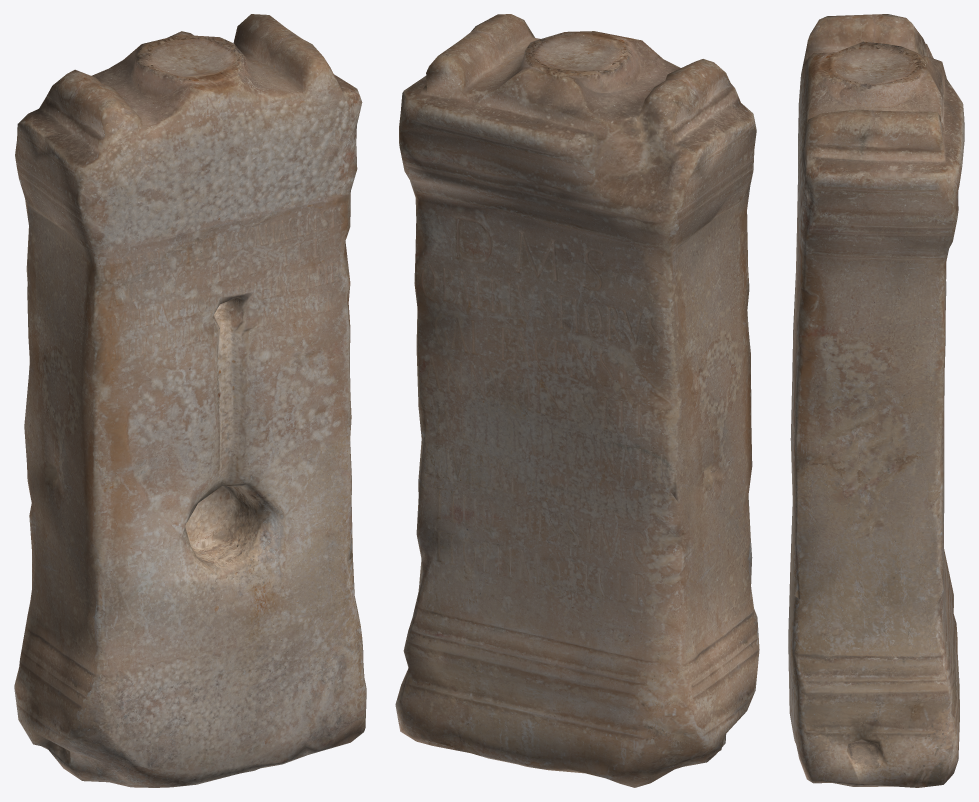
File: SM_Door_Stone.fbx
3 renders of one model, left to right at view 1: azimuth 30°, elevation 25°; view 2: azimuth 150°, elevation 25°; view 3: azimuth 270°, elevation 25°, orthographic. The views are drawn at different scales.
Visible parts, largest first — view 1: SM_Door_Stone; view 2: SM_Door_Stone; view 3: SM_Door_Stone.
Part boxes in pixels (x1=…): SM_Door_Stone: x1=14, y1=14, x2=366, y2=787; SM_Door_Stone: x1=395, y1=14, x2=759, y2=787; SM_Door_Stone: x1=788, y1=14, x2=964, y2=787.
Size of the model in its own units: 100 by 223 by 54.05.
